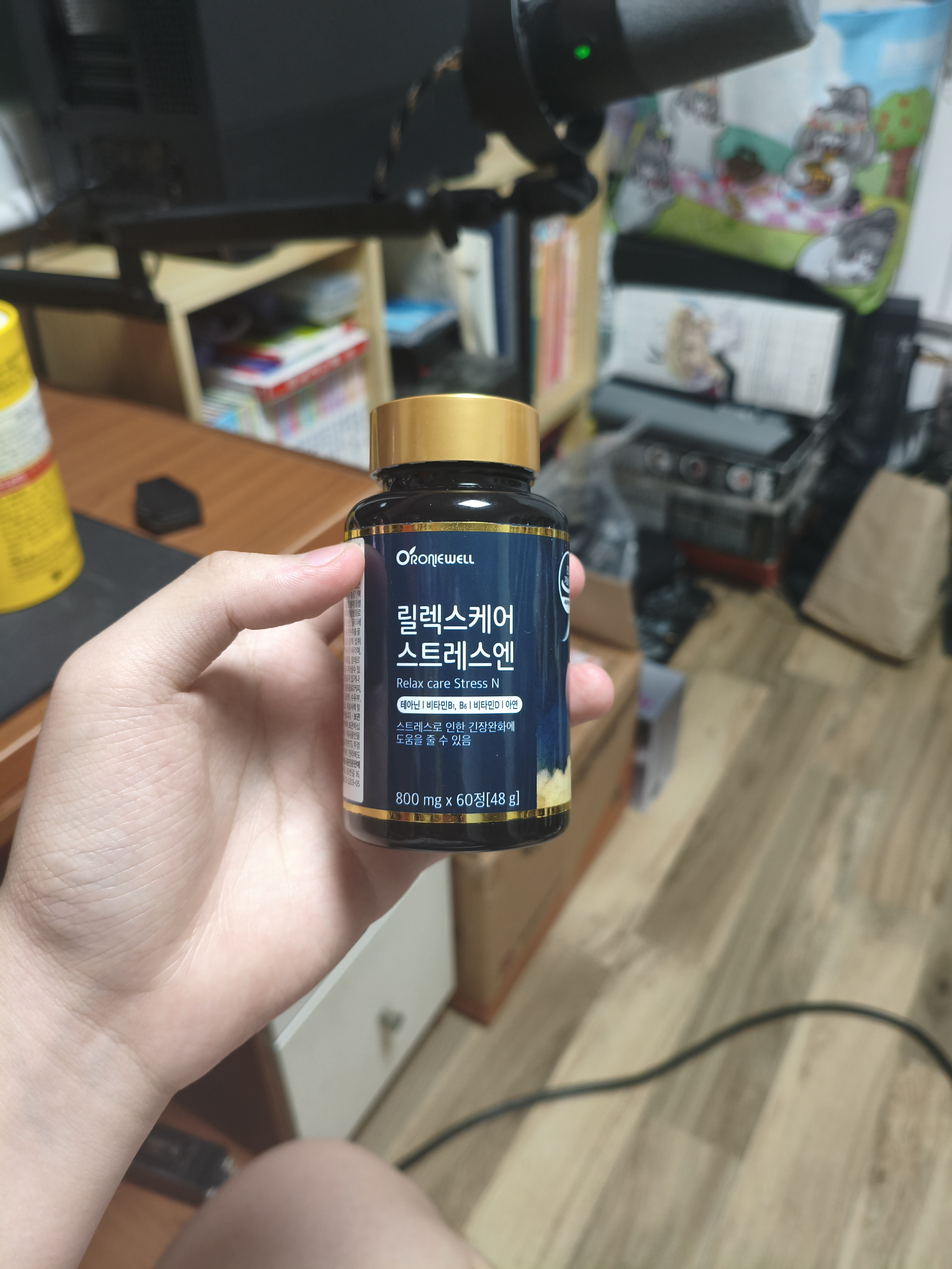supplement_label: (333, 517, 580, 831)
